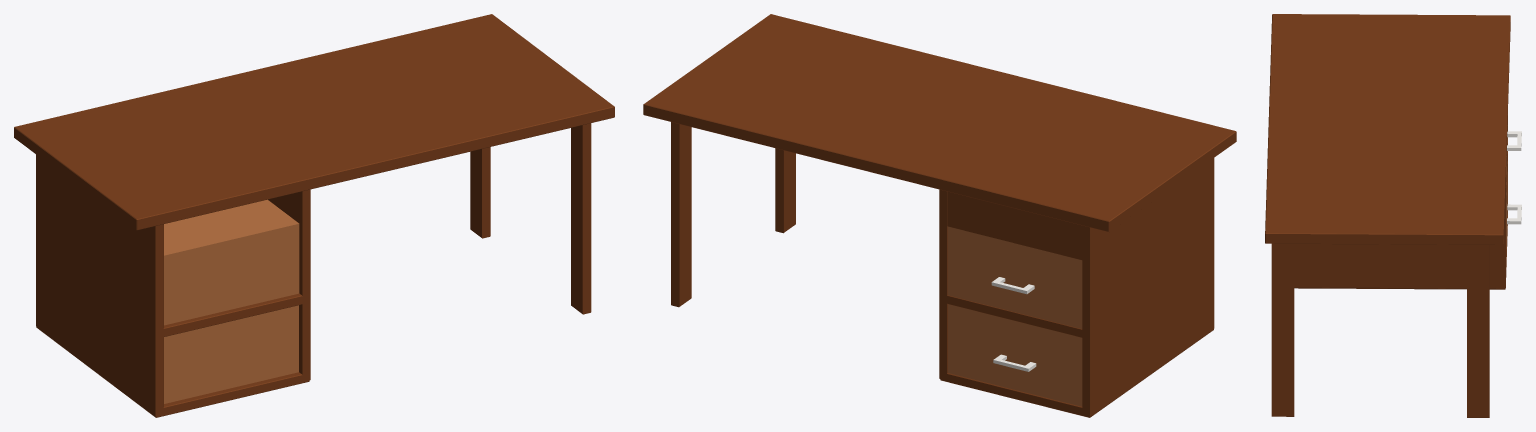
Rendered from escritorio.obj.
The picture shows the model from 3 angles, left to right: view 1: azimuth 30°, elevation 25°; view 2: azimuth 150°, elevation 25°; view 3: azimuth 270°, elevation 25°; orthographic projection. The views are drawn at different scales.
Parts seen in each view (by area): view 1: polySurface23; view 2: polySurface23; view 3: polySurface23.
Boxes of the visible parts, x1,y1,x2,y2 form: polySurface23: [14, 14, 614, 417]; polySurface23: [643, 14, 1236, 417]; polySurface23: [1265, 14, 1521, 417].
Bounding box in the file's own units: 7.67 × 3.15 × 3.77.
12 materials, 12 textured.
